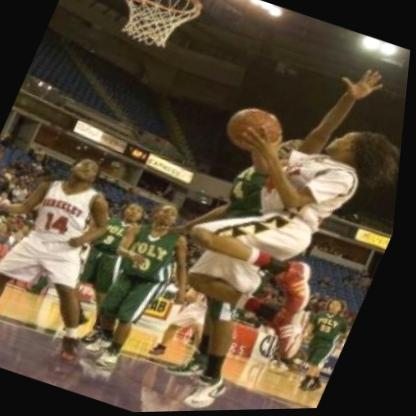basketball: (217, 95, 300, 168)
